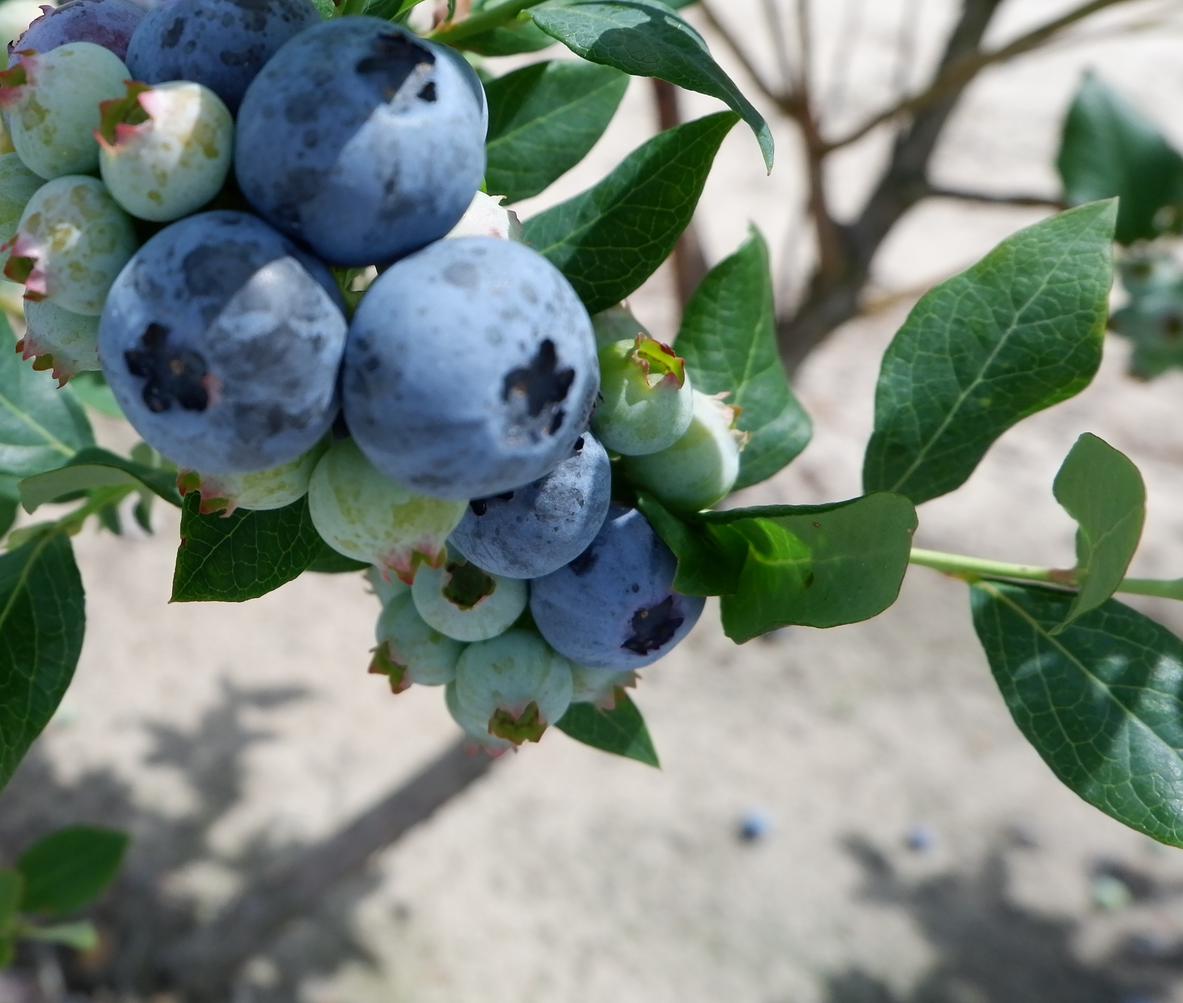Immature: (311, 441, 461, 578), (98, 85, 229, 215), (9, 176, 133, 312), (5, 45, 132, 173), (175, 423, 333, 514), (455, 630, 570, 746), (626, 394, 739, 511), (593, 340, 688, 452), (413, 555, 524, 641), (370, 590, 465, 687), (17, 289, 98, 381), (447, 682, 511, 754), (593, 298, 650, 363), (452, 191, 519, 238), (570, 663, 632, 708)
Mature: (337, 240, 591, 498), (98, 214, 343, 468), (233, 20, 480, 258), (530, 505, 710, 668), (448, 432, 609, 574), (124, 1, 310, 109), (8, 4, 153, 64)
